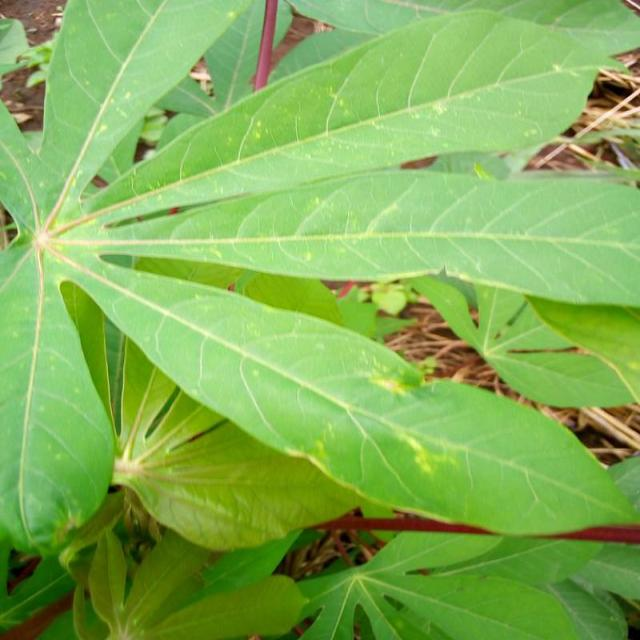cassava leaf: (0, 0, 639, 564), (54, 251, 639, 542)
